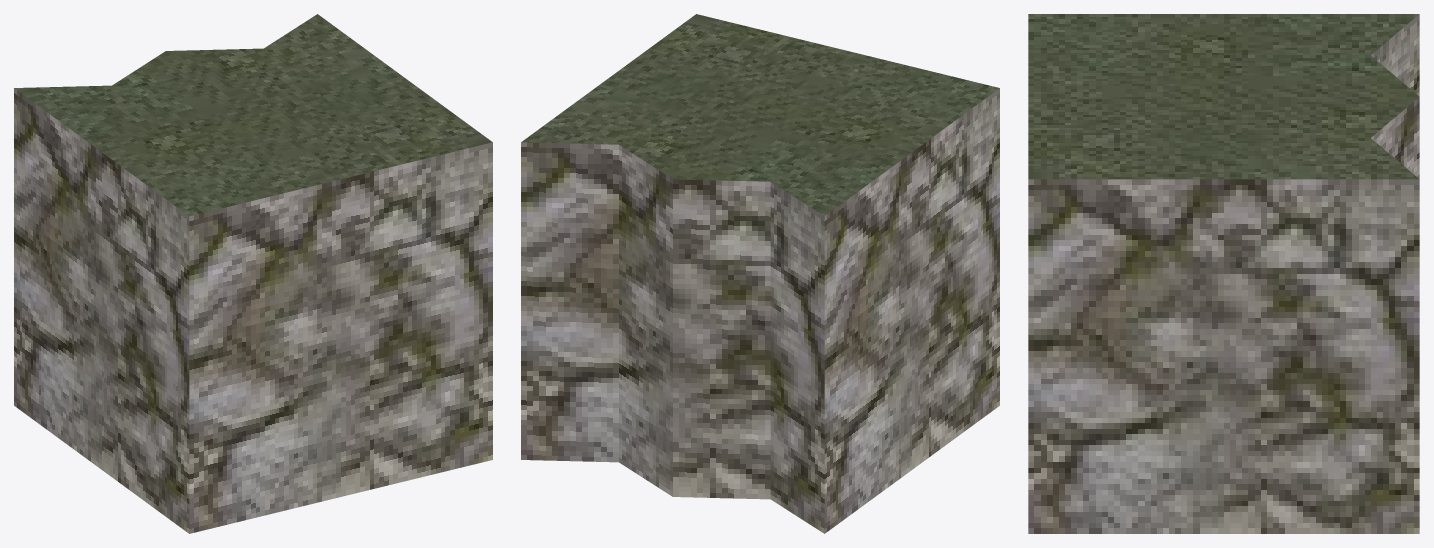
File: kenney-retro-urban-cliff-side.glb
The picture shows the model from 3 angles, left to right: view 1: azimuth 30°, elevation 25°; view 2: azimuth 150°, elevation 25°; view 3: azimuth 270°, elevation 25°; orthographic projection. The views are drawn at different scales.
Visible parts, largest first — view 1: cliff-side; view 2: cliff-side; view 3: cliff-side.
Boxes of the visible parts, left/top/right/bottom form: cliff-side: left=14, top=14, right=492, bottom=533; cliff-side: left=521, top=14, right=999, bottom=533; cliff-side: left=1028, top=14, right=1419, bottom=533.
Bounding box in the file's own units: 1 × 1 × 1.
Materials: 2 (2 with a texture image).
